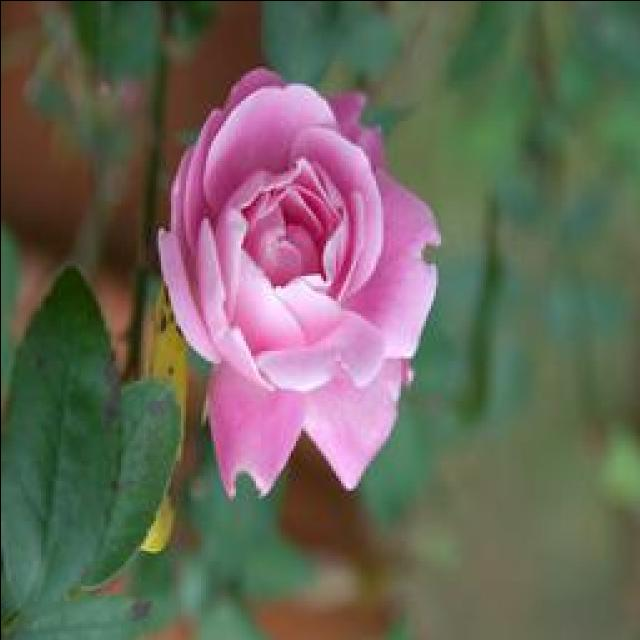rose: (126, 84, 444, 473)
